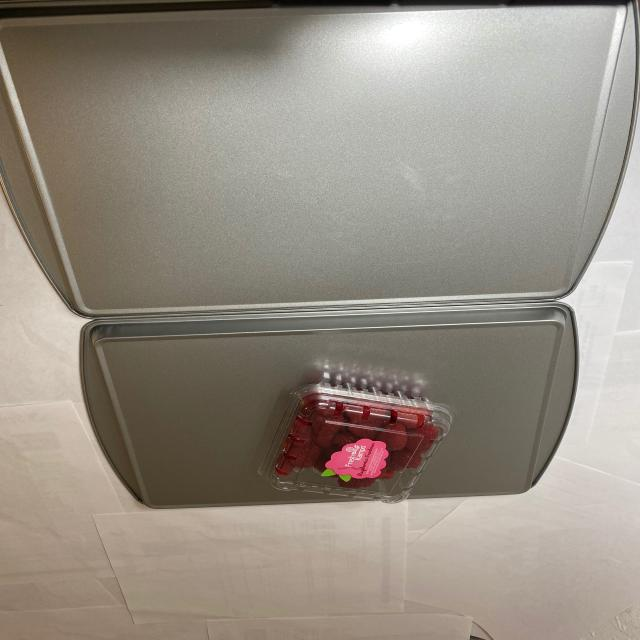raspberries: (279, 381, 441, 487)
